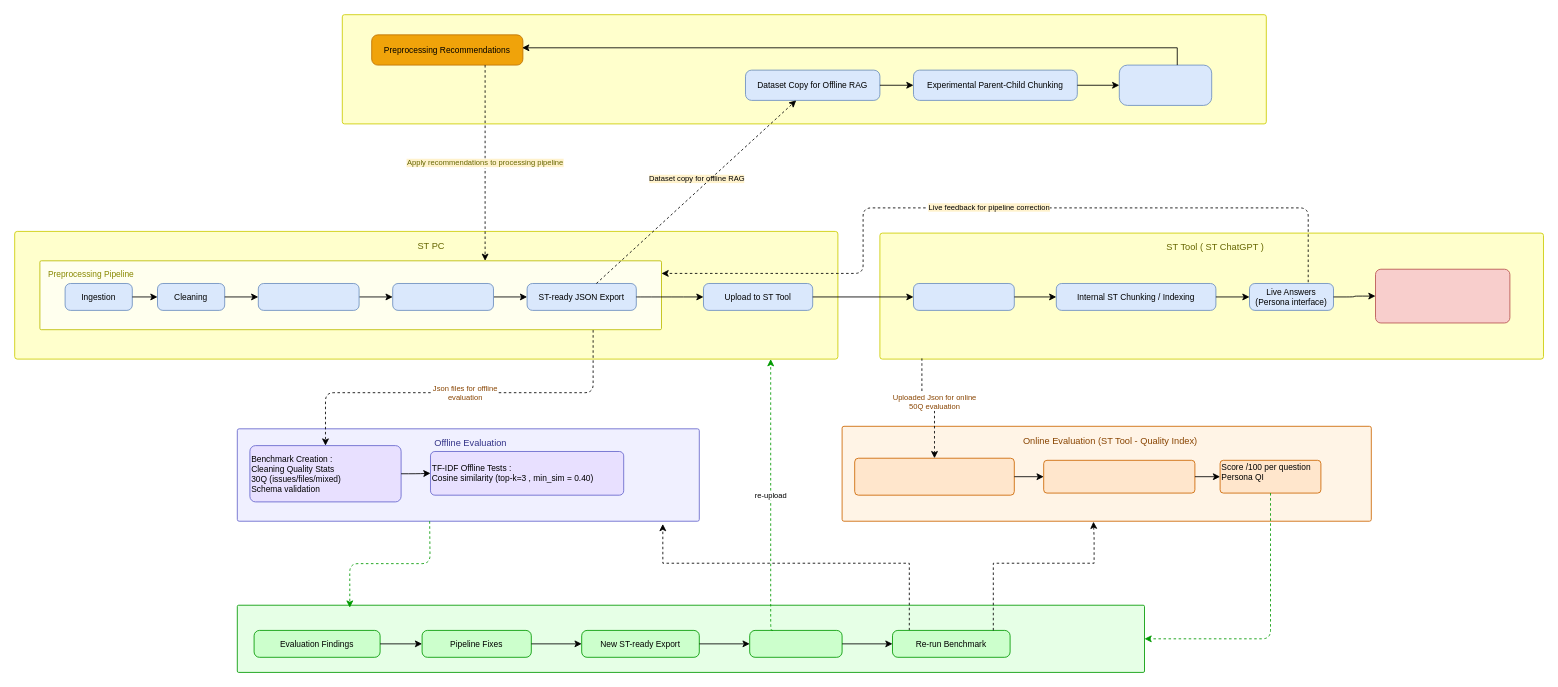
This 1558x687 diagram has some shape labels left out. Each missing label, with the box of its shape:
50Q Test Suite CSV Question • Expected Answer • Tags: (854, 457, 1014, 495)
Benchmark P@k • MRR • Latency: (1118, 64, 1212, 105)
Continuous Improvement Loop: (236, 604, 1144, 672)
Data Generation: (392, 283, 494, 310)
Live Run (50Q) - ST Quality Index: (1043, 459, 1195, 493)
Metadata Enrichment: (257, 283, 359, 310)
New Upload: (749, 630, 842, 657)
Outside ST Domain PC: (341, 14, 1266, 124)
Upload Received: (913, 283, 1014, 310)
Useful answer Generic answer Runtime exception Out-of-scope ST case: (1375, 268, 1510, 323)
